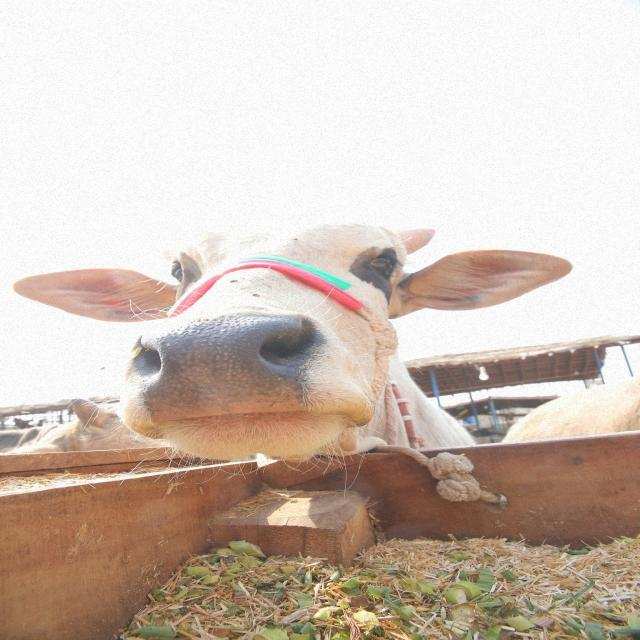muzzles: (119, 311, 335, 429)
